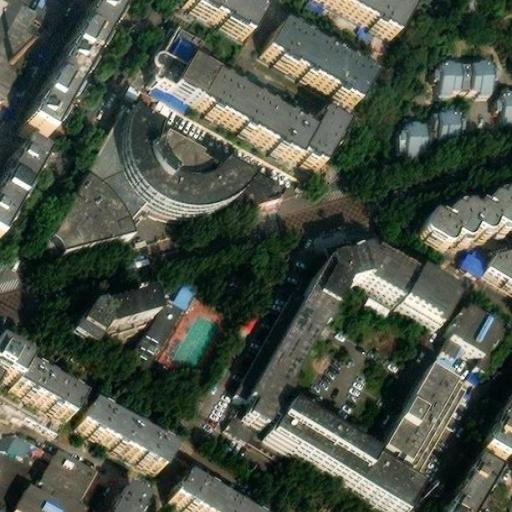building: (242, 247, 454, 432), (234, 242, 373, 399), (169, 55, 342, 164), (266, 403, 419, 511), (119, 106, 247, 210), (57, 104, 144, 241), (380, 355, 465, 469), (257, 21, 362, 104), (69, 406, 161, 474), (0, 0, 64, 92), (75, 288, 158, 351), (136, 283, 198, 365), (417, 192, 512, 244), (7, 454, 87, 512), (305, 0, 402, 45), (17, 68, 75, 142), (53, 7, 110, 81), (152, 122, 222, 179), (4, 367, 74, 422), (0, 143, 36, 219), (157, 17, 214, 65), (443, 312, 496, 362), (163, 477, 235, 512), (443, 464, 491, 512), (443, 51, 494, 87), (236, 163, 288, 198), (483, 384, 512, 446), (0, 421, 40, 457), (431, 102, 463, 146), (147, 77, 190, 108), (401, 115, 432, 153), (483, 243, 512, 282), (149, 51, 181, 86), (227, 413, 266, 441), (461, 240, 492, 271), (101, 493, 133, 512), (501, 82, 512, 113)
